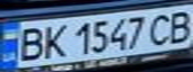1: (69, 19, 93, 55)
4: (109, 15, 133, 52)
5: (90, 17, 112, 54)
7: (124, 12, 151, 48)
B: (9, 25, 48, 62), (163, 8, 193, 44)
C: (145, 11, 175, 46)
K: (36, 21, 69, 60)
